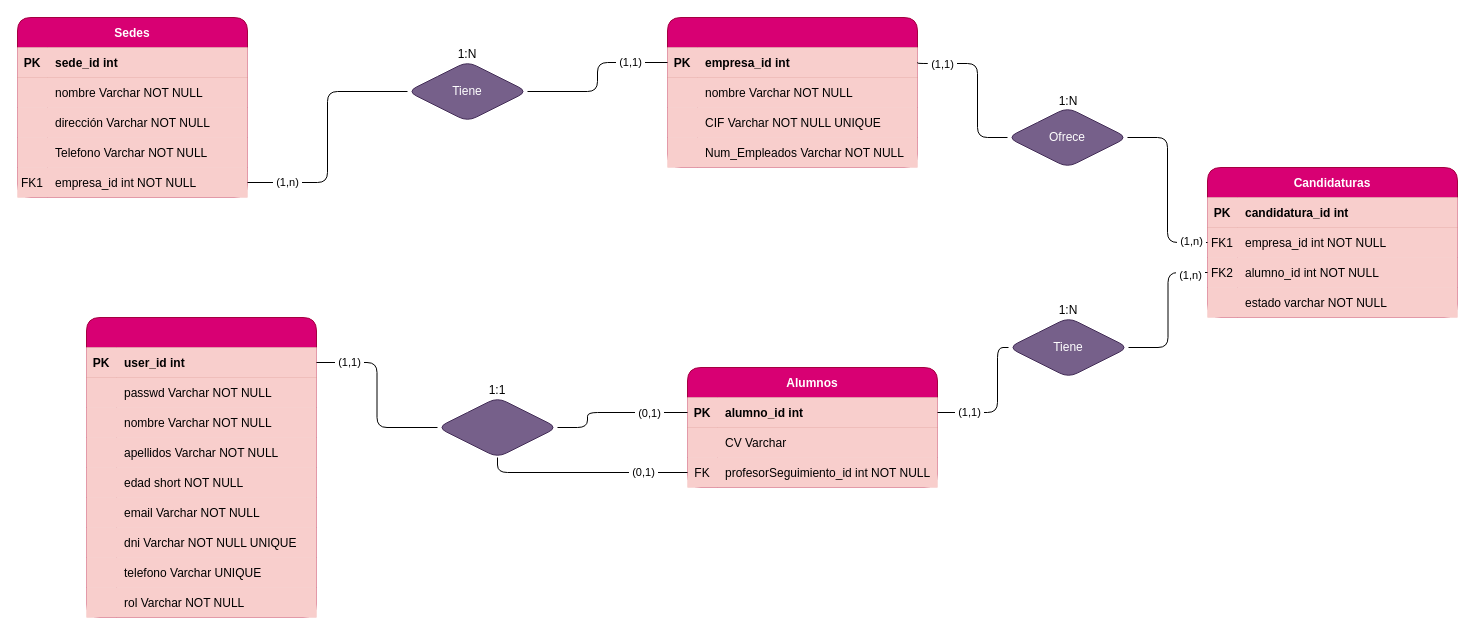
Image size: 1475x635. Some labels were removed from this diagram. The shapes that lost their labels are listed below. From the top down, each one's box as (x1, y1, x2, y2) in pixels, then its label:
(666, 16, 918, 168): Empresas
(436, 396, 558, 458): Es
(86, 316, 316, 618): Users
